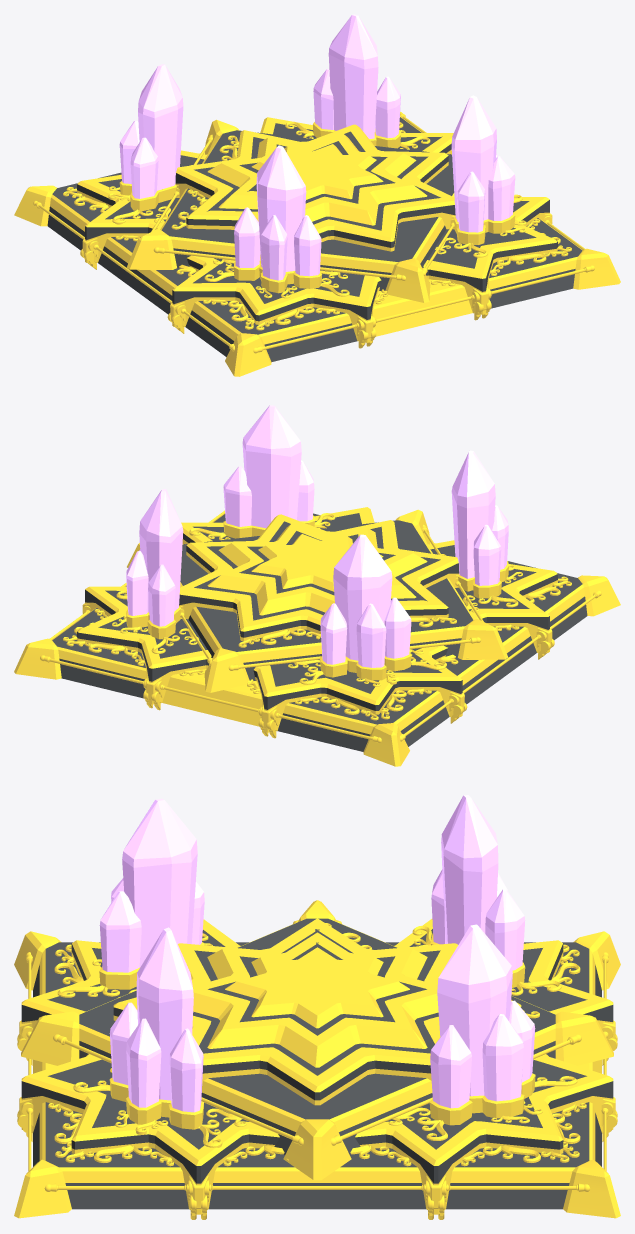
File: religious_courtyard_prayer_crystals.fbx
3 renders of one model, top to bottom at view 1: azimuth 30°, elevation 25°; view 2: azimuth 150°, elevation 25°; view 3: azimuth 270°, elevation 25°, orthographic. The views are drawn at different scales.
Parts seen in each view (by area): view 1: crystals (×4), star_top (×5), base1 (×3), base, star_top1, star (×3), star_top2, crystal_base (×4), baseswirl (×4), base9 (×2), star_base, base4 (×2) (+3 smaller); view 2: crystals (×4), star_top (×5), base1 (×3), base, star_top1, star (×3), star_top2, baseswirl (×4), crystal_base (×4), base9 (×2), star_base, base4 (×2) (+3 smaller); view 3: crystals (×4), star_top (×5), base1 (×4), base, star_top1, base4 (×2), star_top2, star (×2), crystal_base (×3), baseswirl (×2), swirls (×4), base_fence (×3) (+2 smaller).
Boxes of the visible parts, x1,y1,x2,y2 form: crystals (×4): [119, 14, 515, 280]; star_top (×5): [77, 117, 557, 315]; base1 (×3): [14, 172, 620, 376]; base: [126, 119, 454, 302]; star_top1: [207, 133, 427, 225]; star (×3): [77, 184, 557, 342]; star_top2: [251, 144, 383, 199]; crystal_base (×4): [119, 122, 515, 293]; baseswirl (×4): [63, 135, 571, 330]; base9 (×2): [372, 279, 472, 336]; star_base: [175, 156, 455, 251]; base4 (×2): [98, 237, 195, 314]; crystals (×4): [126, 405, 508, 667]; star_top (×5): [77, 507, 557, 704]; base1 (×3): [14, 561, 620, 766]; base: [127, 509, 508, 692]; star_top1: [207, 523, 427, 615]; star (×3): [77, 574, 557, 732]; star_top2: [251, 534, 383, 591]; baseswirl (×4): [63, 576, 571, 720]; crystal_base (×4): [126, 515, 508, 680]; base9 (×2): [162, 669, 262, 726]; star_base: [179, 545, 459, 641]; base4 (×2): [438, 626, 536, 704]; crystals (×4): [99, 795, 535, 1112]; star_top (×5): [21, 918, 613, 1165]; base1 (×4): [14, 931, 620, 1218]; base: [21, 900, 613, 1180]; star_top1: [192, 932, 438, 1067]; base4 (×2): [209, 1148, 425, 1209]; star_top2: [225, 947, 409, 1028]; star (×2): [21, 1081, 613, 1214]; crystal_base (×3): [99, 942, 535, 1129]; baseswirl (×2): [48, 1103, 586, 1166]; swirls (×4): [57, 926, 577, 1147]; base_fence (×3): [28, 924, 606, 1189].
Size of the model in its own units: 29.43 by 12.76 by 29.48.
